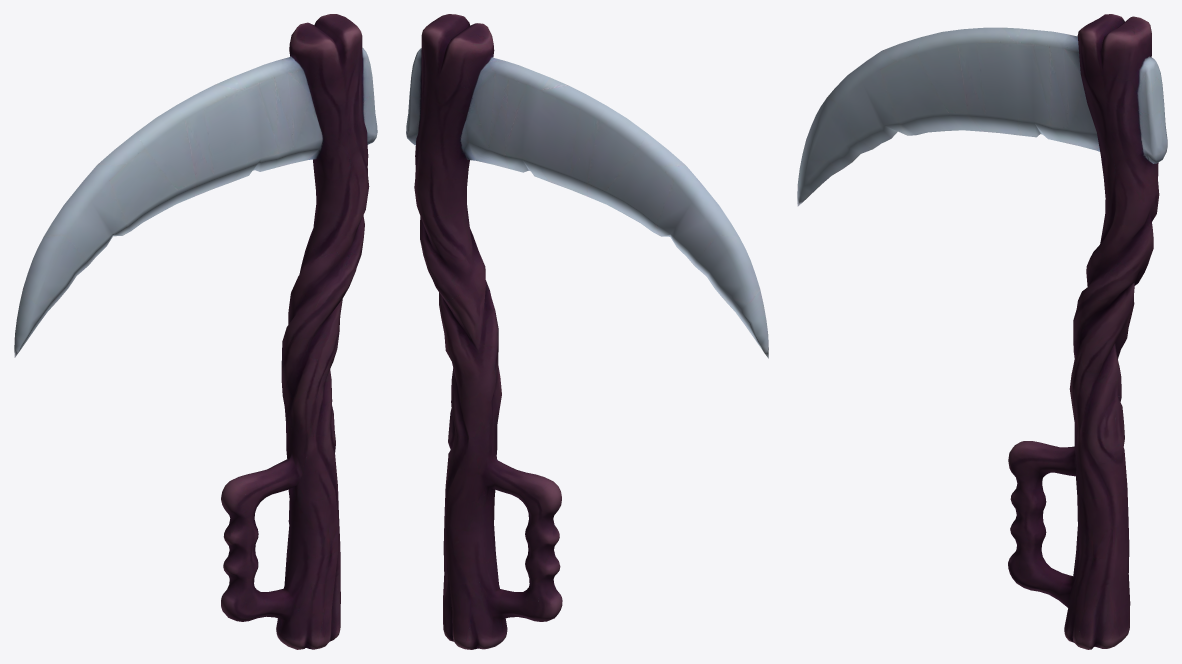
Rendered from scythe.glb.
The picture shows the model from 3 angles, left to right: view 1: azimuth 30°, elevation 25°; view 2: azimuth 150°, elevation 25°; view 3: azimuth 330°, elevation 25°; orthographic projection. The views are drawn at different scales.
Parts seen in each view (by area): view 1: geometry_0; view 2: geometry_0; view 3: geometry_0.
Boxes of the visible parts, x1,y1,x2,y2 form: geometry_0: (14, 14, 377, 649); geometry_0: (406, 14, 768, 649); geometry_0: (797, 14, 1167, 649).
Size of the model in its own units: 0.583 by 0.9512 by 0.0894.
1 material, 1 textured.
